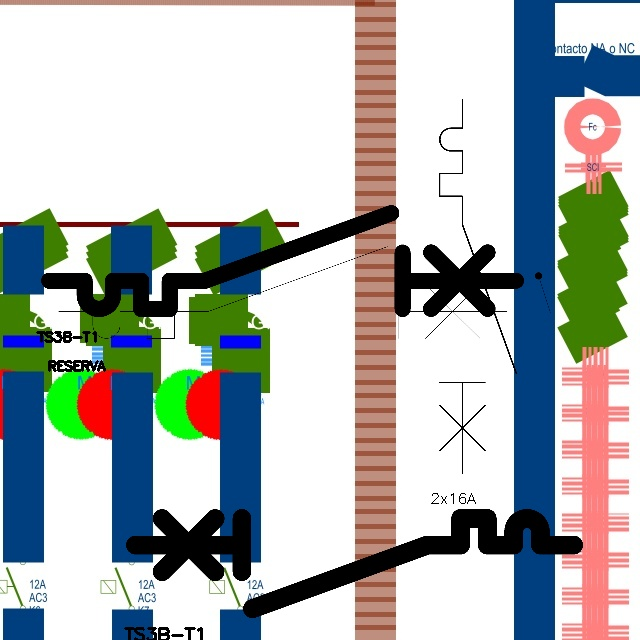interruptor_termomagnetico: (37, 201, 527, 321), (47, 235, 518, 350), (124, 507, 585, 620), (430, 90, 526, 483)
